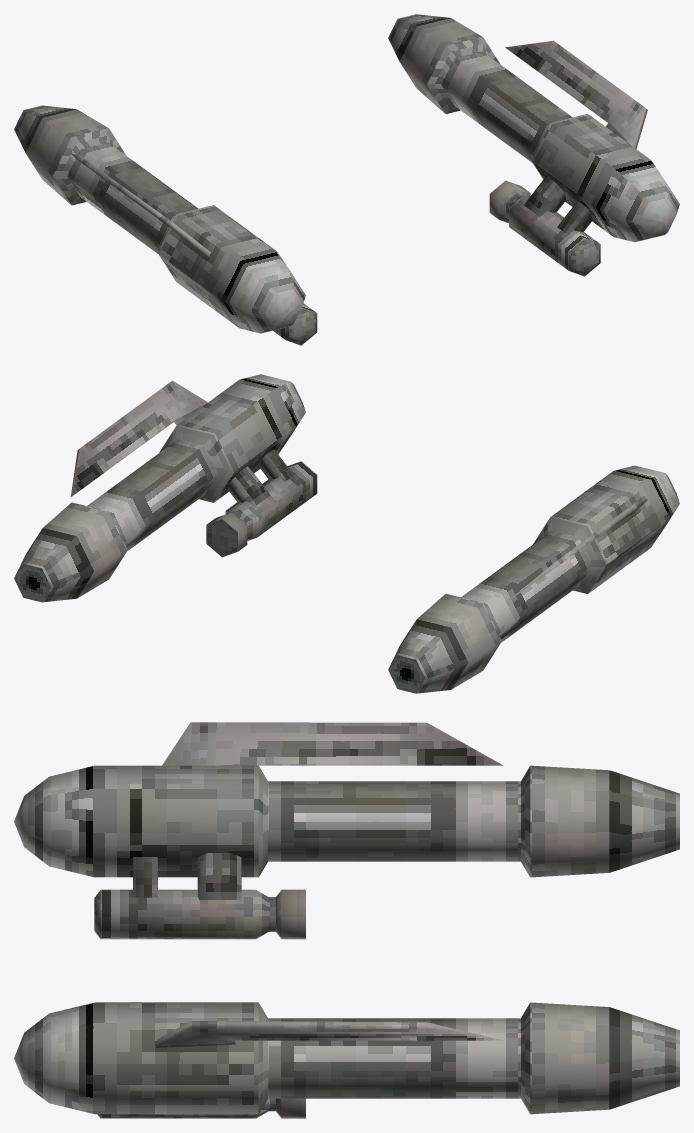
File: ywing_engine_s02_l2.fbx
3 renders of one model, top to bottom at view 1: azimuth 30°, elevation 25°; view 2: azimuth 150°, elevation 25°; view 3: azimuth 270°, elevation 25°, orthographic. The views are drawn at different scales.
Parts seen in each view (by area): view 1: mesh_node; view 2: mesh_node; view 3: mesh_node.
Boxes of the visible parts, left/top/right/bottom form: mesh_node: left=14, top=14, right=679, bottom=345; mesh_node: left=14, top=374, right=679, bottom=693; mesh_node: left=14, top=722, right=679, bottom=1118.
Bounding box in the file's own units: 14.28 × 3.46 × 13.25.
1 material, 1 textured.
